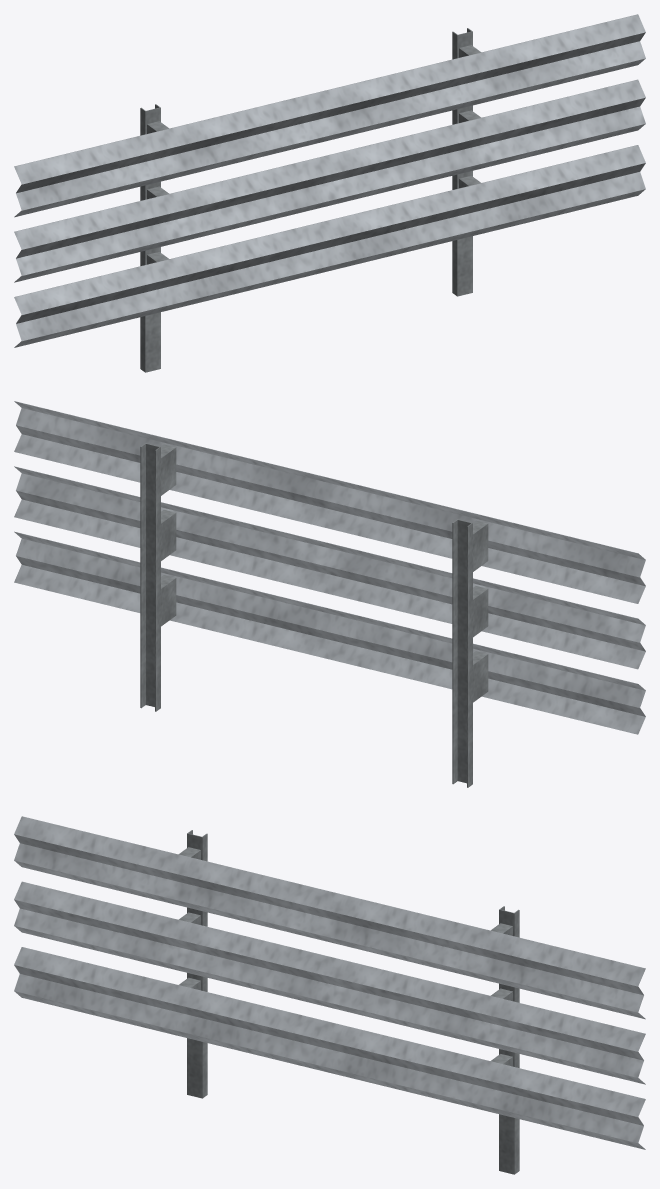
File: vangrail_4m_triple.glb
The picture shows the model from 3 angles, top to bottom: view 1: azimuth 30°, elevation 25°; view 2: azimuth 150°, elevation 25°; view 3: azimuth 330°, elevation 25°; orthographic projection.
Visible parts, largest first — view 1: vangrail_4m_triple; view 2: vangrail_4m_triple; view 3: vangrail_4m_triple.
Part boxes in pixels (x1,y1,x2,y2): vangrail_4m_triple: (14, 14, 645, 372); vangrail_4m_triple: (14, 401, 645, 787); vangrail_4m_triple: (14, 816, 645, 1174).
Size of the model in its own units: 4 by 1.6 by 0.33.
3 materials, 2 textured.
